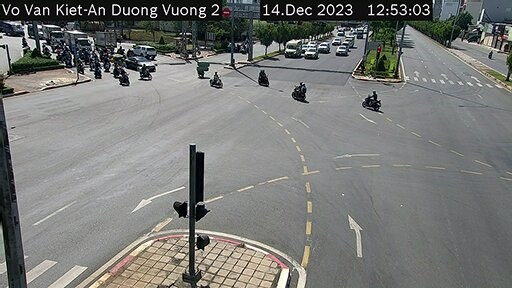motorbike: (292, 78, 312, 100), (361, 89, 382, 108), (208, 70, 226, 89), (255, 67, 272, 85)
